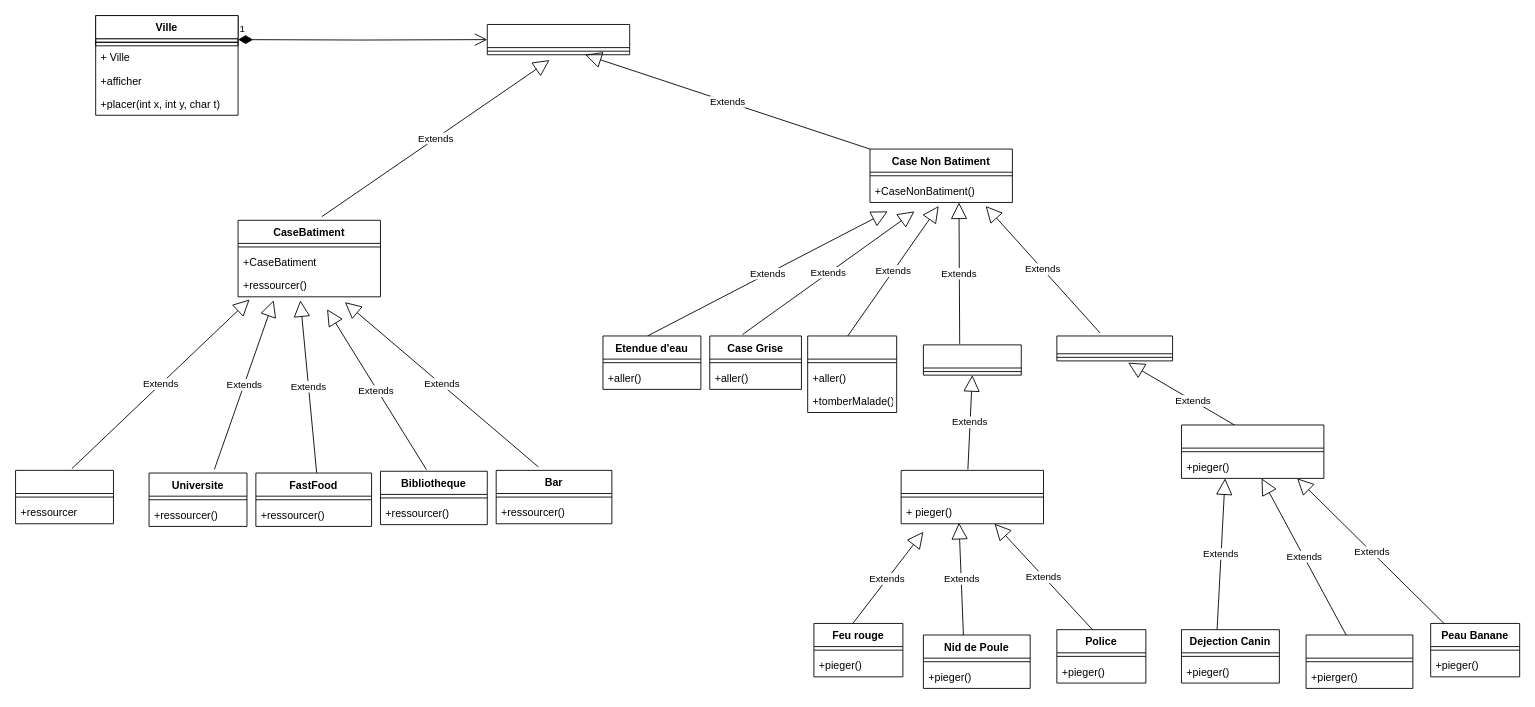
Image size: 1535x707. Some labels were removed from this diagram. The box of each missing label's shape, as (x1, y1, x2, y2) in pixels:
Case: (486, 24, 630, 55)
Foret: (807, 335, 897, 413)
Maison: (15, 469, 113, 524)
Piege Route: (900, 469, 1044, 524)
Piege Trottoir: (1181, 424, 1324, 478)
Poussette: (1305, 634, 1413, 688)
Route: (922, 344, 1021, 375)
Trottoire: (1056, 335, 1173, 361)
